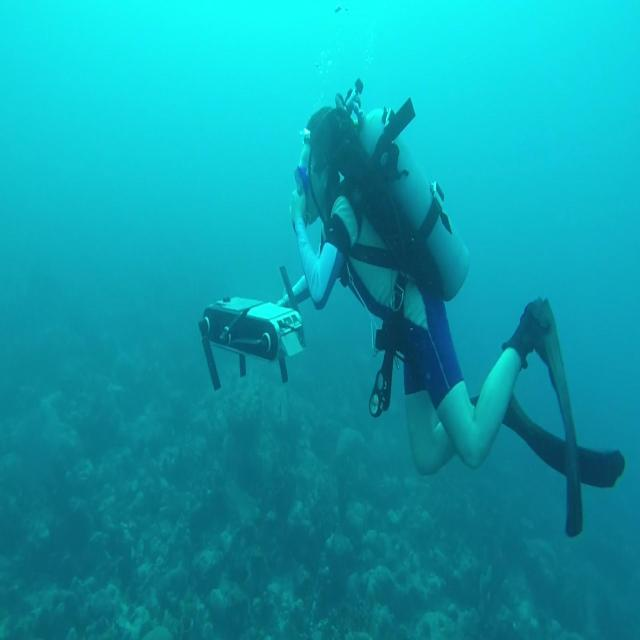human: (288, 93, 625, 538)
